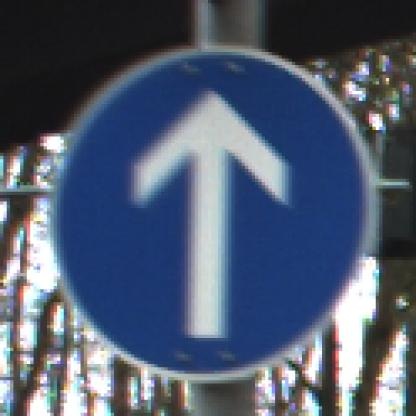AheadOnly: (38, 40, 383, 381)
